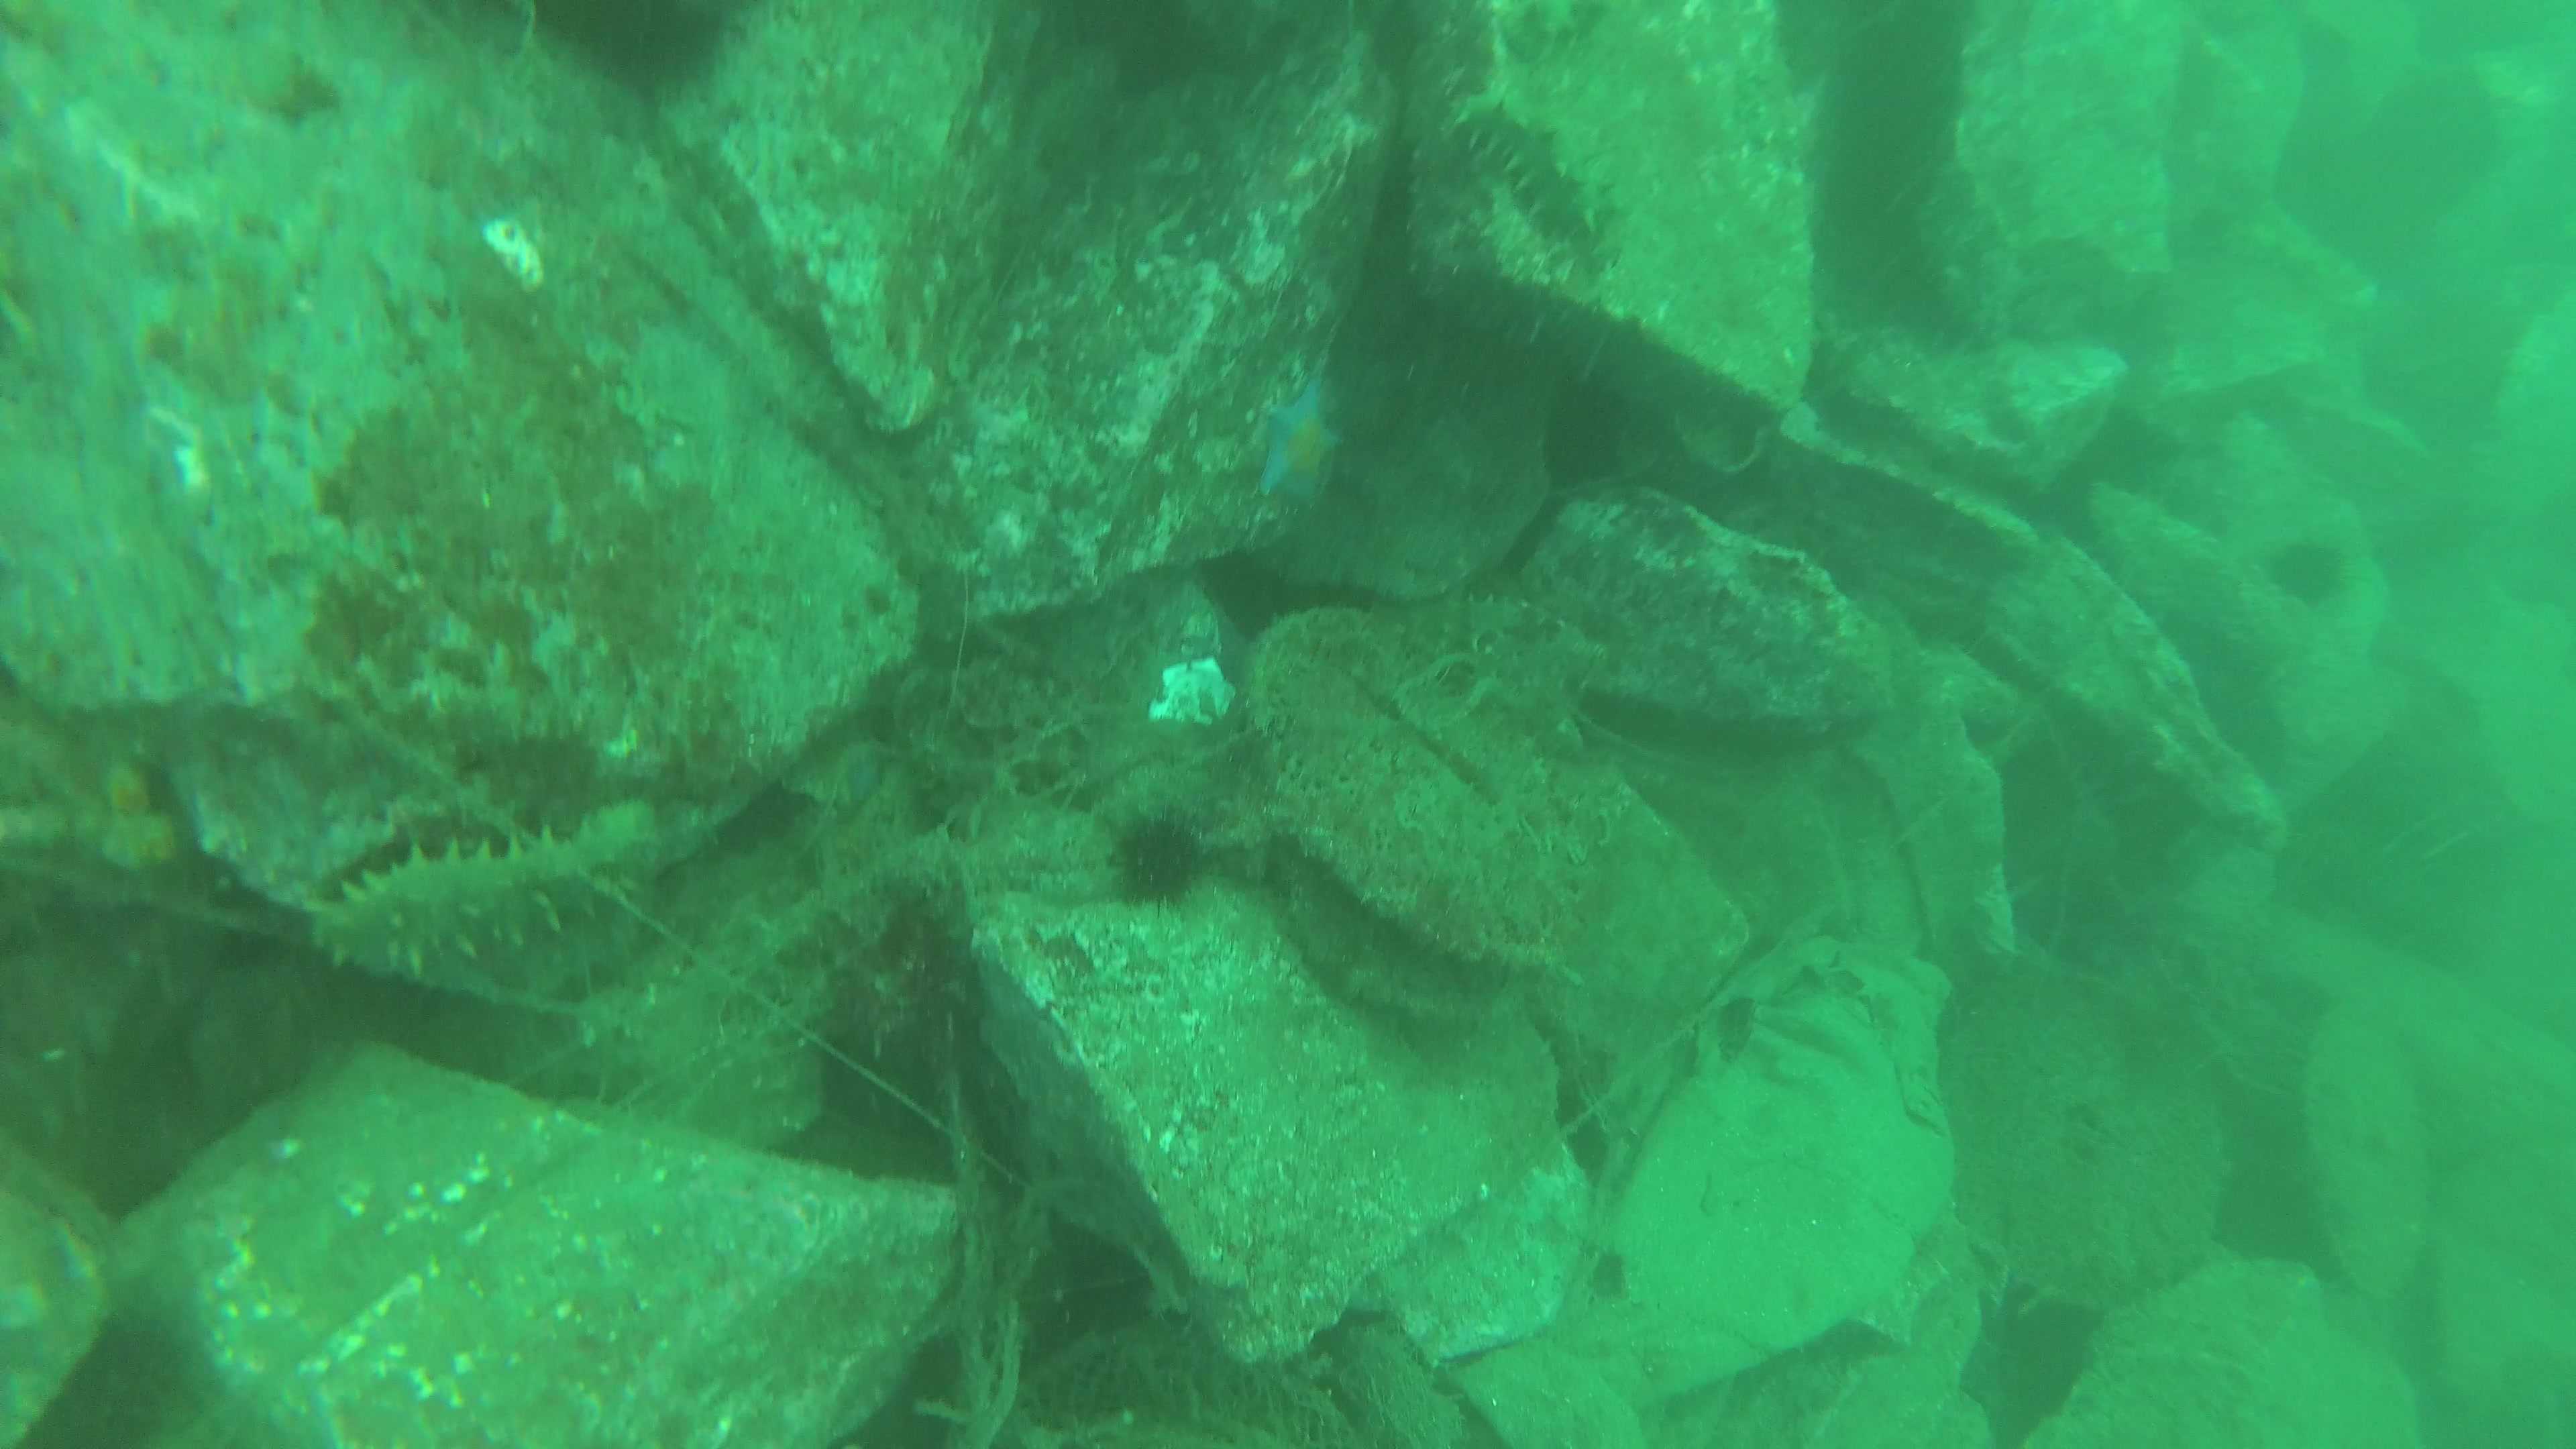echinus: (548, 5, 748, 117), (2261, 522, 2360, 621), (1108, 814, 1207, 911)
holothurian: (299, 810, 671, 985), (1440, 83, 1640, 251)
starfish: (1244, 363, 1357, 511)
